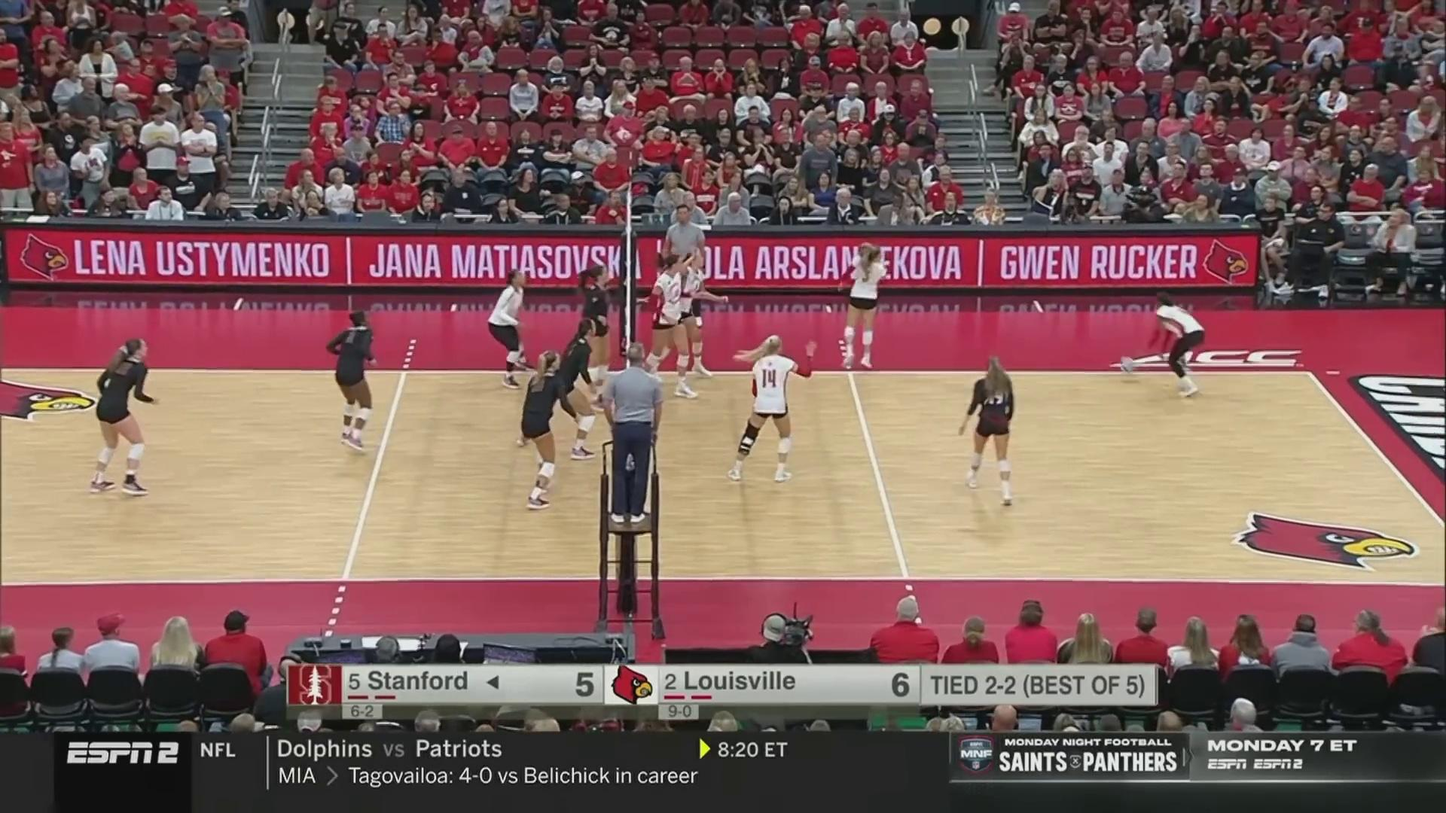player: (722, 343, 808, 485), (91, 339, 160, 495), (522, 348, 578, 507), (641, 257, 701, 400), (961, 354, 1016, 503), (656, 252, 721, 377), (329, 310, 378, 449), (1145, 293, 1204, 402), (841, 244, 887, 368), (556, 318, 596, 458), (489, 269, 536, 387), (579, 263, 612, 412)
refree: (602, 343, 664, 524), (662, 206, 708, 330)
